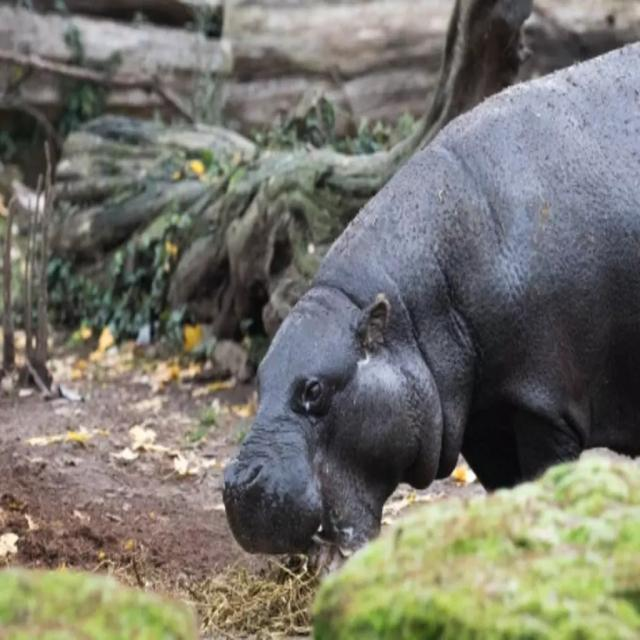Hippopotamus: (215, 37, 640, 580)
